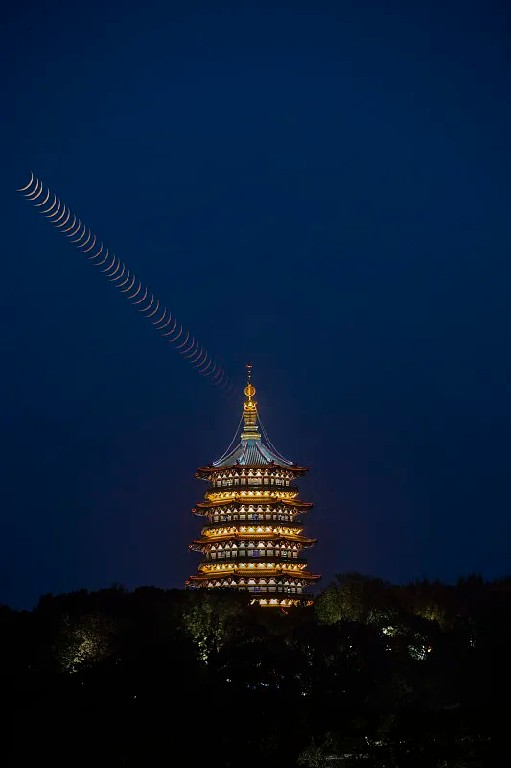Leifeng: (189, 358, 325, 616)
